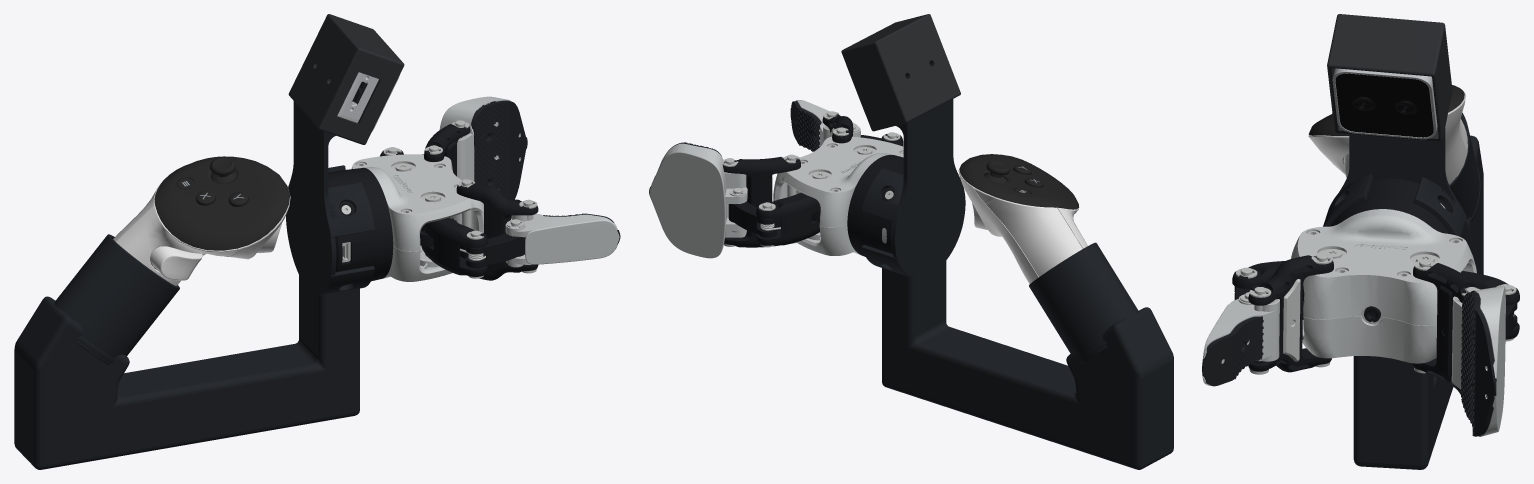
The model's file is hil-umi.glb.
The picture shows the model from 3 angles, left to right: view 1: azimuth 30°, elevation 25°; view 2: azimuth 150°, elevation 25°; view 3: azimuth 270°, elevation 25°; orthographic projection. The views are drawn at different scales.
Visible parts, largest first — view 1: frame_U support_baked, Quest3_Left_controller_mesh_baked, official_gripper_base_link_baked, frame_Controller sleeve_baked, camera_holder_open_shroud_baked, authentic_connector_continuous_backplate_camera_support_bake, official_gripper_hand_wide3_Link_baked, official_gripper_hand_narrow3_Link_baked, official_gripper_hand_narrow_loop_Link_baked, official_gripper_hand_narrow1_Link_baked, authentic_mount_concentric_curved_ear_1_1_baked, official_gripper_hand_narrow2_Link_baked (+4 smaller); view 2: frame_U support_baked, authentic_connector_continuous_backplate_camera_support_bake, Quest3_Left_controller_mesh_baked, official_gripper_base_link_baked, camera_holder_open_shroud_baked, official_gripper_hand_wide3_Link_baked, frame_Controller sleeve_baked, official_gripper_hand_wide1_Link_baked, official_gripper_hand_wide_loop_Link_baked, official_gripper_hand_narrow3_Link_baked, authentic_mount_concentric_curved_ear_-1_1_baked, official_gripper_hand_wide2_Link_baked (+2 smaller); view 3: official_gripper_base_link_baked, frame_U support_baked, camera_holder_open_shroud_baked, official_gripper_hand_wide3_Link_baked, D405_Official_ROS_STL_unchanged_baked, official_gripper_hand_narrow3_Link_baked, official_gripper_hand_narrow_loop_Link_baked, authentic_connector_continuous_backplate_camera_support_bake, official_gripper_hand_wide_loop_Link_baked, Quest3_Left_controller_mesh_baked, authentic_mount_concentric_curved_ear_-1_1_baked, frame_Controller sleeve_baked (+6 smaller).
Boxes of the visible parts, left/top/right/bottom form: frame_U support_baked: left=14, top=275, right=359, bottom=469; Quest3_Left_controller_mesh_baked: left=113, top=156, right=290, bottom=285; official_gripper_base_link_baked: left=328, top=154, right=483, bottom=285; frame_Controller sleeve_baked: left=46, top=234, right=179, bottom=364; camera_holder_open_shroud_baked: left=288, top=14, right=404, bottom=144; authentic_connector_continuous_backplate_camera_support_bake: left=286, top=101, right=336, bottom=294; official_gripper_hand_wide3_Link_baked: left=439, top=96, right=527, bottom=199; official_gripper_hand_narrow3_Link_baked: left=505, top=213, right=620, bottom=267; official_gripper_hand_narrow_loop_Link_baked: left=456, top=179, right=538, bottom=280; official_gripper_hand_narrow1_Link_baked: left=420, top=194, right=487, bottom=278; authentic_mount_concentric_curved_ear_1_1_baked: left=328, top=182, right=374, bottom=237; official_gripper_hand_narrow2_Link_baked: left=460, top=233, right=525, bottom=268; frame_U support_baked: left=882, top=261, right=1173, bottom=469; authentic_connector_continuous_backplate_camera_support_bake: left=891, top=99, right=965, bottom=277; Quest3_Left_controller_mesh_baked: left=958, top=154, right=1087, bottom=283; official_gripper_base_link_baked: left=773, top=136, right=903, bottom=256; camera_holder_open_shroud_baked: left=841, top=14, right=960, bottom=131; official_gripper_hand_wide3_Link_baked: left=649, top=142, right=747, bottom=258; frame_Controller sleeve_baked: left=1029, top=242, right=1140, bottom=364; official_gripper_hand_wide1_Link_baked: left=756, top=171, right=827, bottom=247; official_gripper_hand_wide_loop_Link_baked: left=722, top=154, right=800, bottom=247; official_gripper_hand_narrow3_Link_baked: left=790, top=100, right=860, bottom=151; authentic_mount_concentric_curved_ear_-1_1_baked: left=861, top=168, right=903, bottom=222; official_gripper_hand_wide2_Link_baked: left=728, top=200, right=780, bottom=237; official_gripper_base_link_baked: left=1291, top=178, right=1476, bottom=363; frame_U support_baked: left=1353, top=135, right=1483, bottom=469; camera_holder_open_shroud_baked: left=1327, top=14, right=1452, bottom=142; official_gripper_hand_wide3_Link_baked: left=1451, top=286, right=1505, bottom=436; D405_Official_ROS_STL_unchanged_baked: left=1332, top=68, right=1437, bottom=139; official_gripper_hand_narrow3_Link_baked: left=1202, top=292, right=1279, bottom=386; official_gripper_hand_narrow_loop_Link_baked: left=1248, top=253, right=1333, bottom=374; authentic_connector_continuous_backplate_camera_support_bake: left=1338, top=128, right=1470, bottom=248; official_gripper_hand_wide_loop_Link_baked: left=1412, top=259, right=1479, bottom=398; Quest3_Left_controller_mesh_baked: left=1308, top=85, right=1467, bottom=184; authentic_mount_concentric_curved_ear_-1_1_baked: left=1413, top=177, right=1466, bottom=236; frame_Controller sleeve_baked: left=1449, top=112, right=1479, bottom=220.
Size of the model in its own units: 0.3032 by 0.2066 by 0.1325.
Materials: 12 (2 with a texture image).
